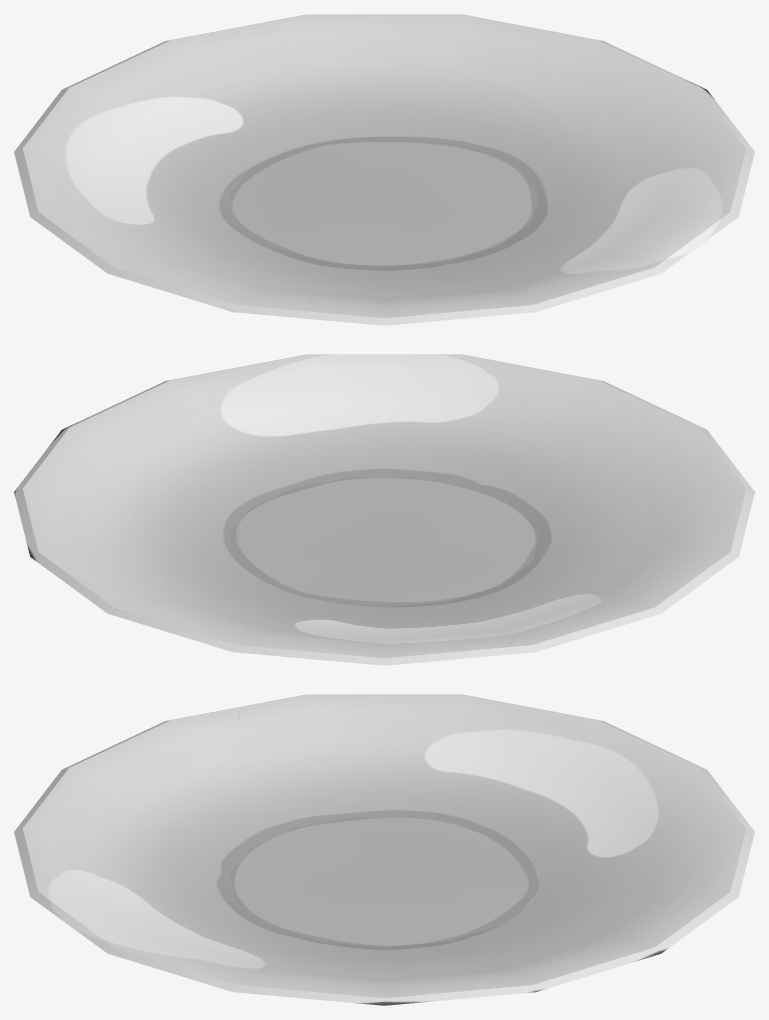
File: Plato.fbx
The picture shows the model from 3 angles, top to bottom: view 1: azimuth 30°, elevation 25°; view 2: azimuth 150°, elevation 25°; view 3: azimuth 270°, elevation 25°; orthographic projection.
Visible parts, largest first — view 1: pSphere1; view 2: pSphere1; view 3: pSphere1.
Part boxes in pixels (x1,y1,x2,y2): pSphere1: (14,14,754,325); pSphere1: (14,354,754,665); pSphere1: (14,694,754,1005).
Bounding box in the file's own units: 2.64 × 0.1808 × 2.66.
